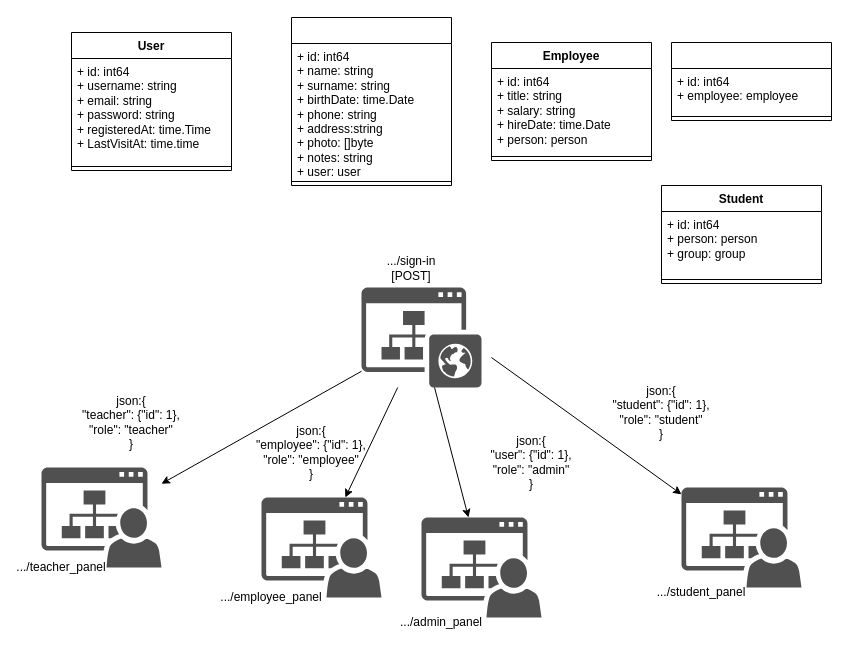
Some shapes in this 849 by 655 pixel diagram are drawn without their labels. The shapes that lost their labels are listed below. From the top down, each one's box as (x1, y1, x2, y2) in pixels, then its label:
(290, 16, 452, 186): Person
(670, 42, 832, 120): Teacher
